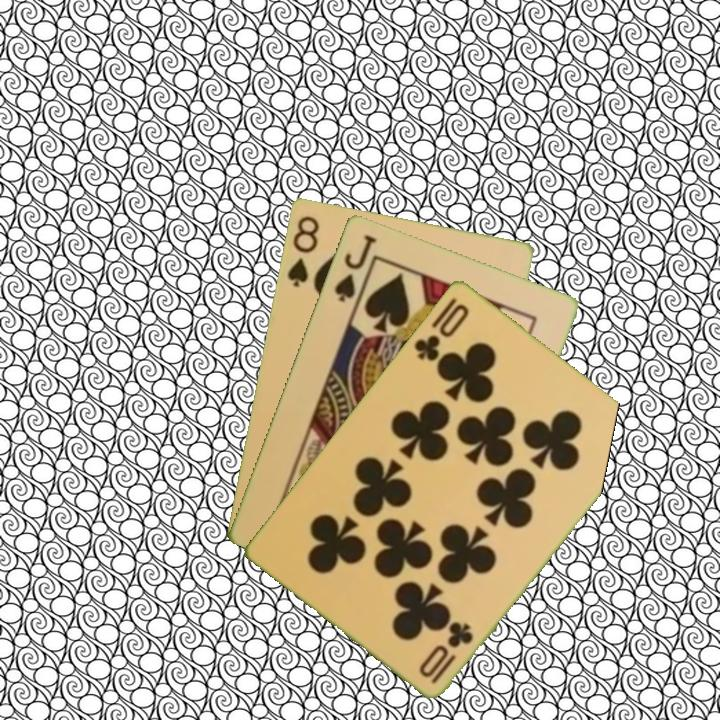10c: (410, 299, 472, 364), (427, 617, 476, 687)
8s: (283, 212, 322, 290)
Js: (330, 230, 379, 305)
